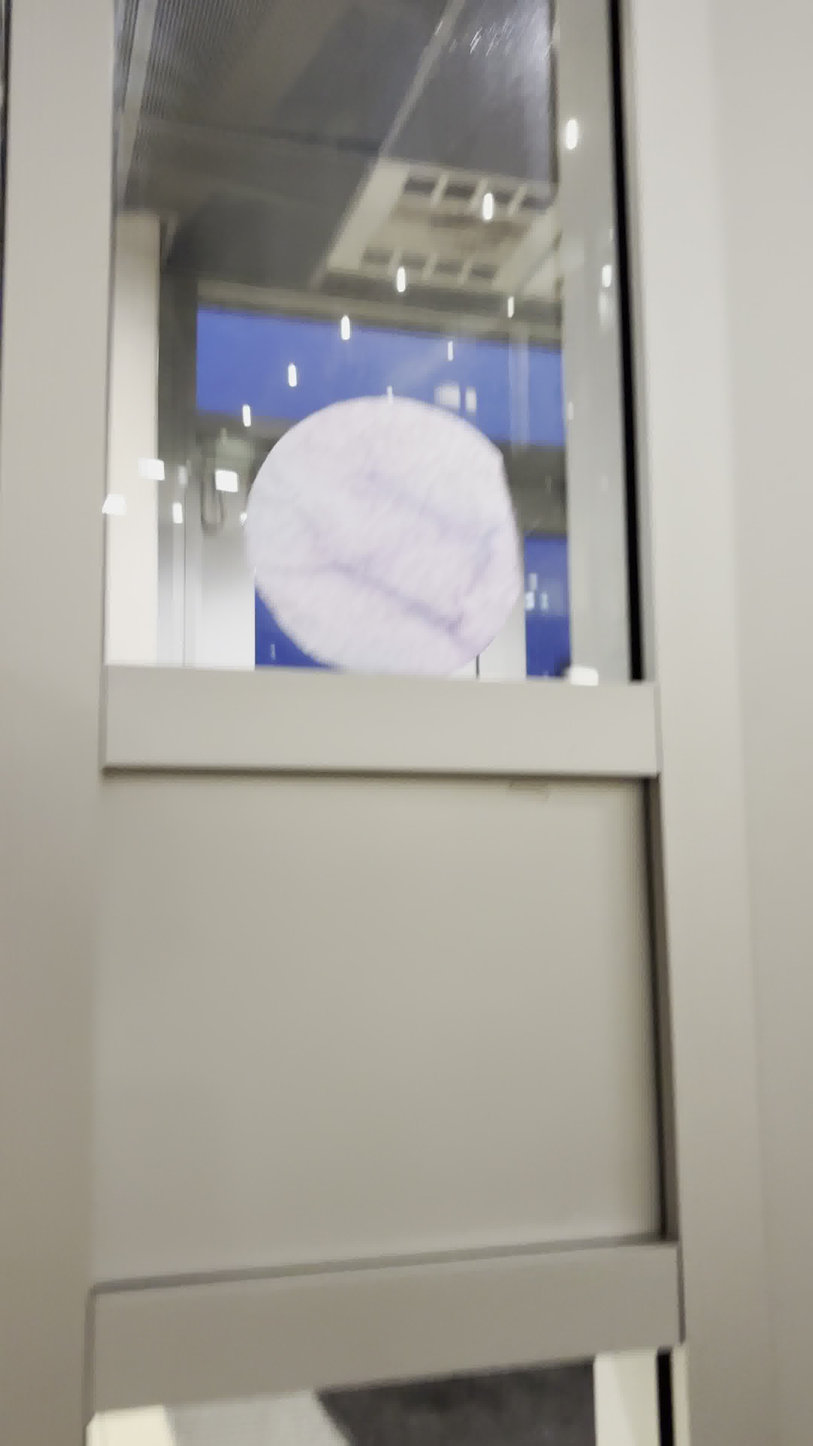Target: (237, 387, 528, 678)
